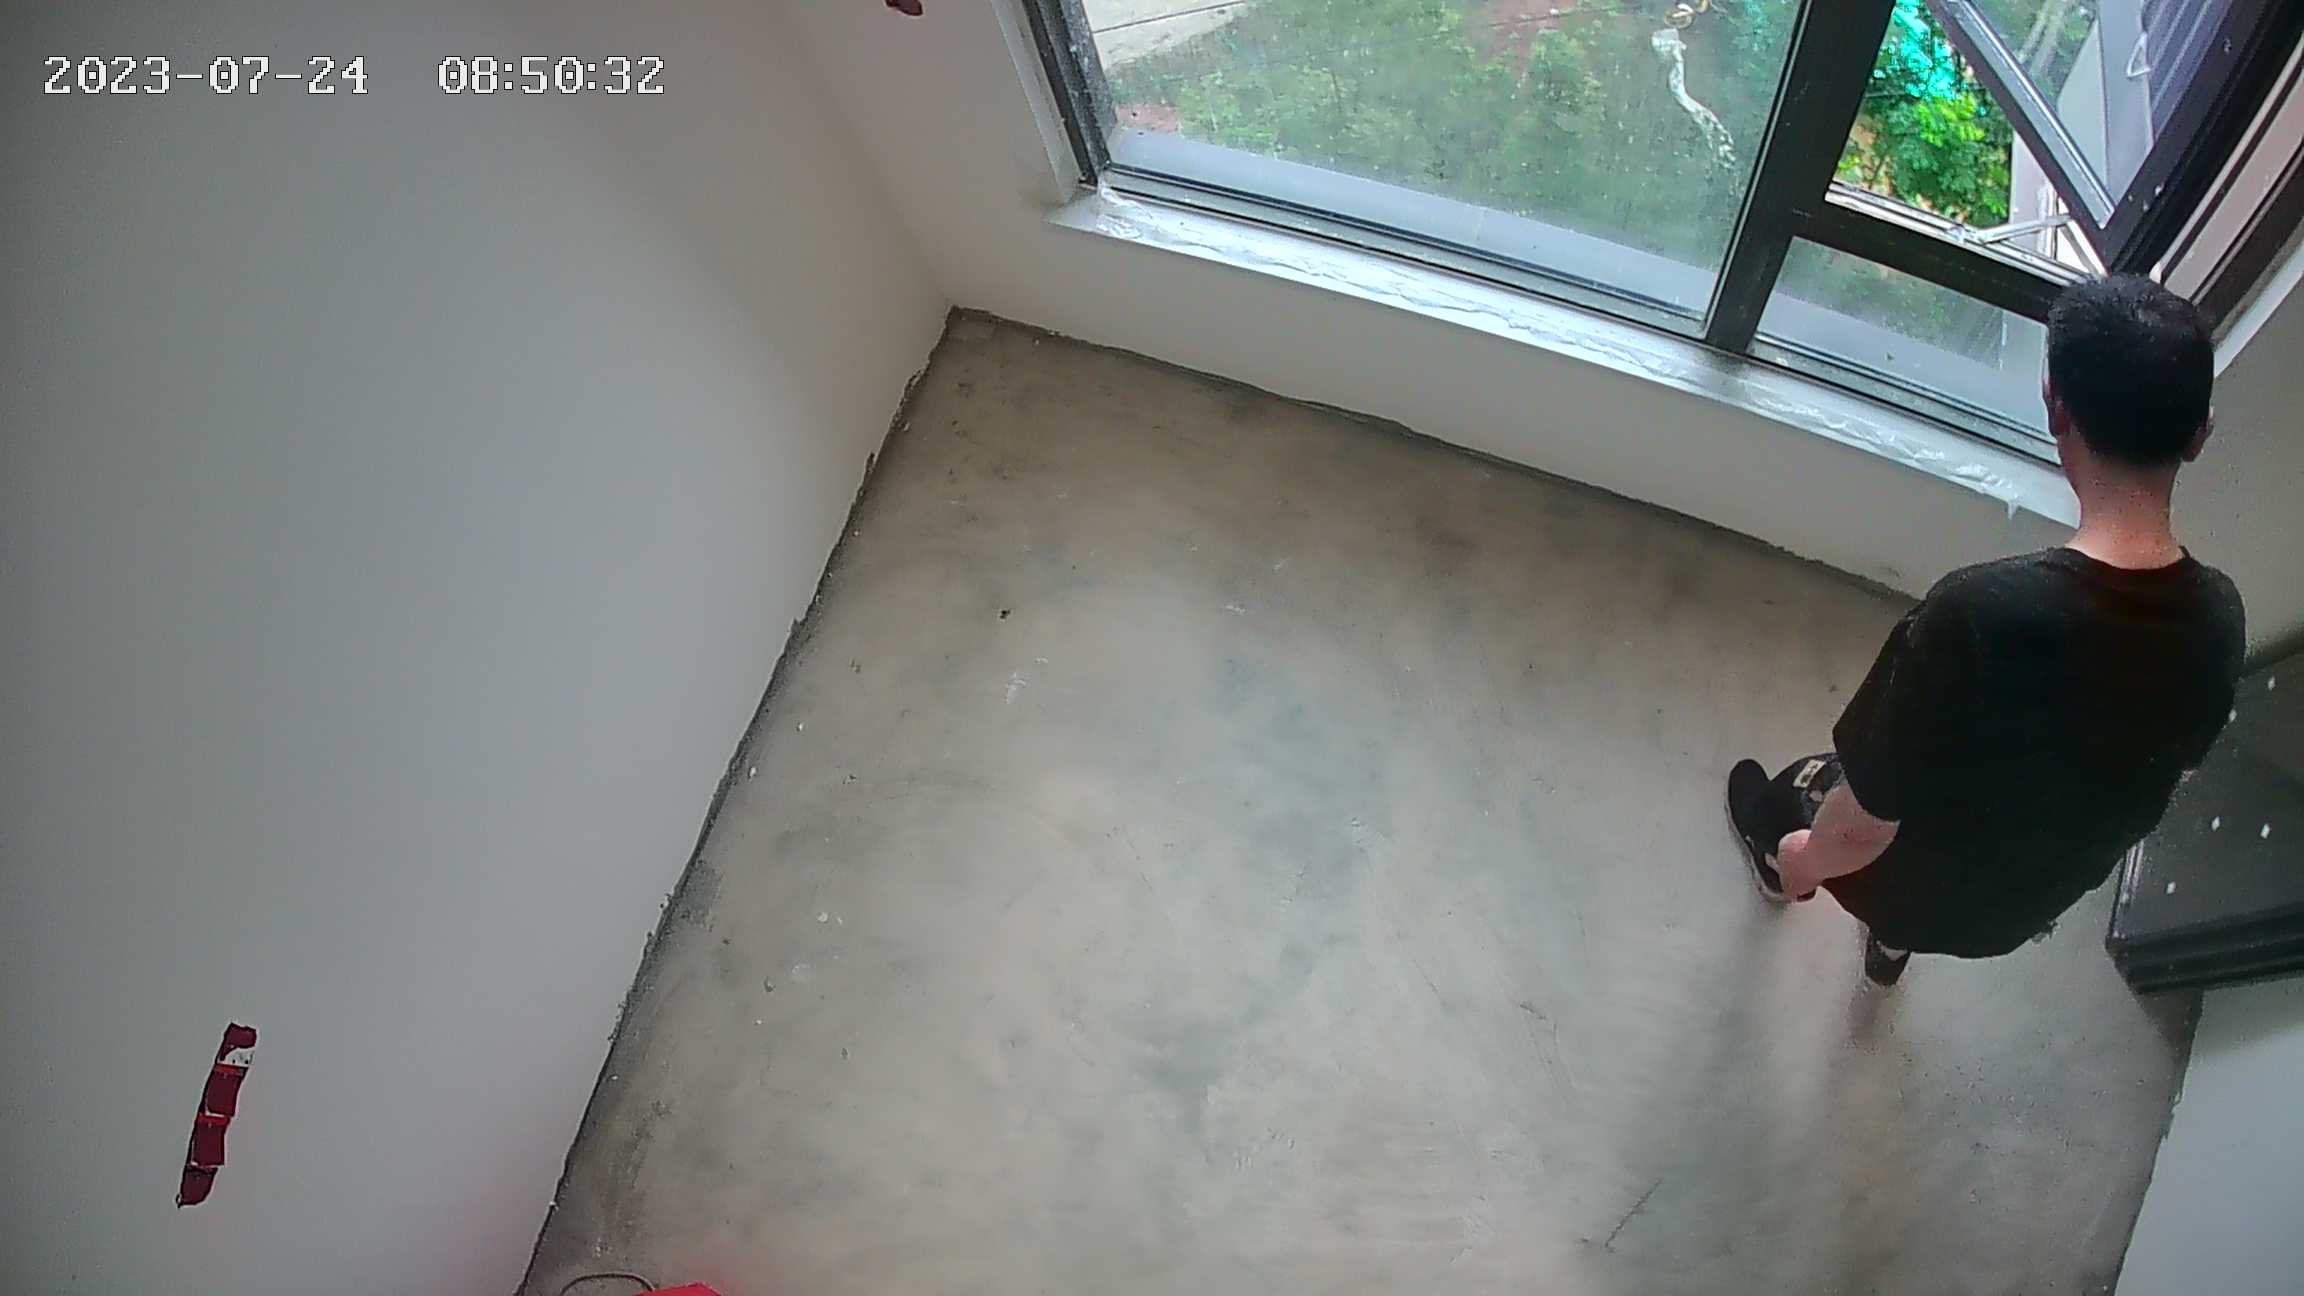people: (1727, 281, 2249, 1001)
window: (1040, 4, 2304, 490)
